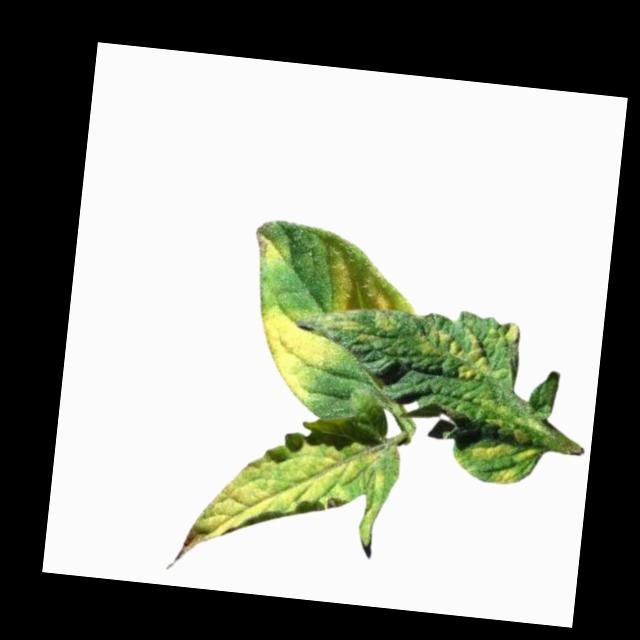Leaf_Mold: (192, 407, 393, 558), (250, 302, 348, 411), (324, 230, 428, 316), (414, 322, 490, 380), (469, 437, 539, 489), (321, 314, 375, 344), (255, 228, 292, 263), (374, 310, 397, 335), (503, 318, 522, 346)
